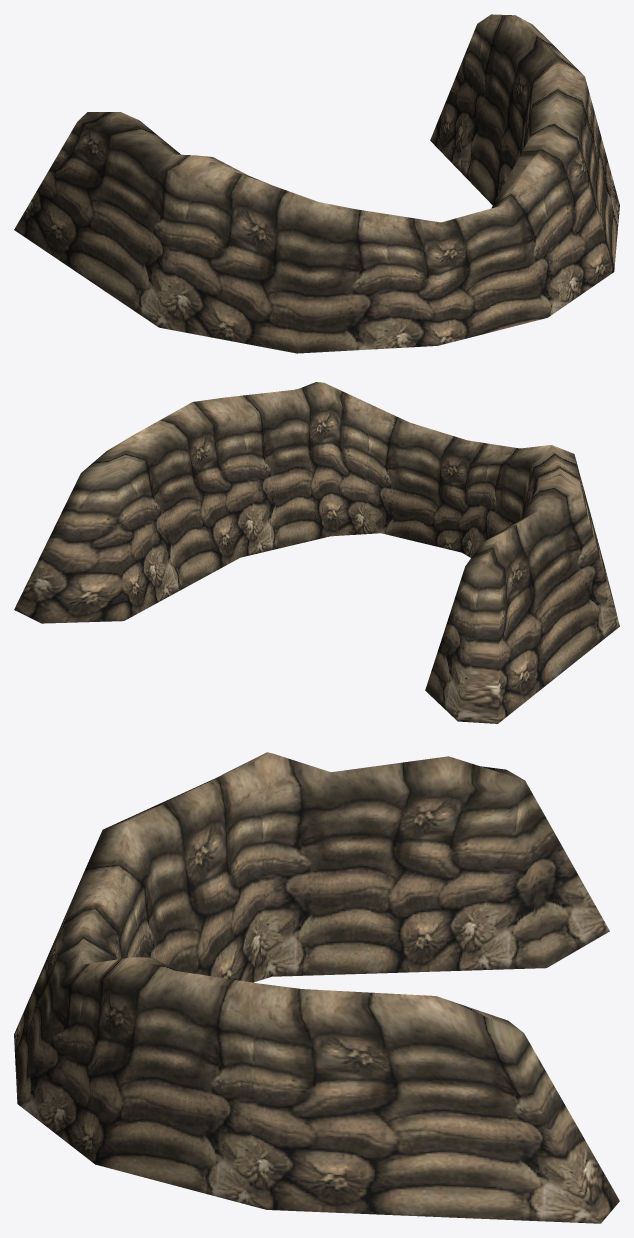
The model's file is Sndbag02.glb.
The picture shows the model from 3 angles, top to bottom: view 1: azimuth 30°, elevation 25°; view 2: azimuth 150°, elevation 25°; view 3: azimuth 270°, elevation 25°; orthographic projection. The views are drawn at different scales.
Visible parts, largest first — view 1: _Sndbag02; view 2: _Sndbag02; view 3: _Sndbag02.
Boxes of the visible parts, x1,y1,x2,y2 form: _Sndbag02: [14, 14, 619, 353]; _Sndbag02: [14, 382, 619, 723]; _Sndbag02: [14, 752, 619, 1223].
Bounding box in the file's own units: 5.41 × 1.55 × 4.41.
Materials: 1 (1 with a texture image).
